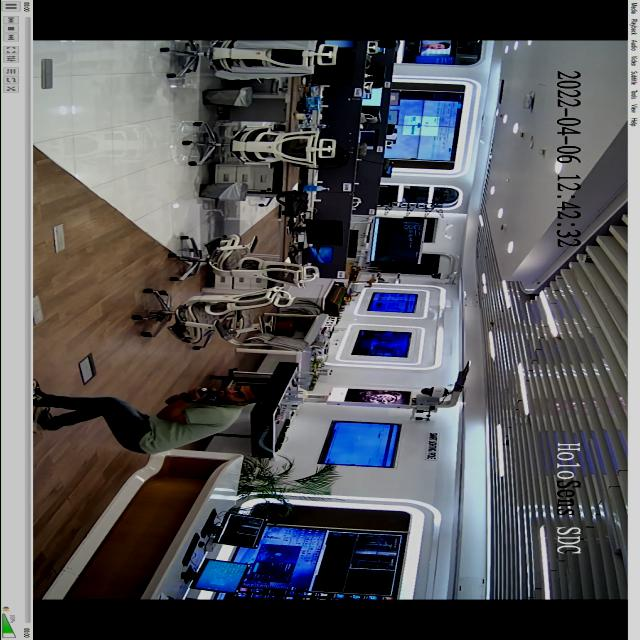long weapon: (165, 382, 223, 407)
